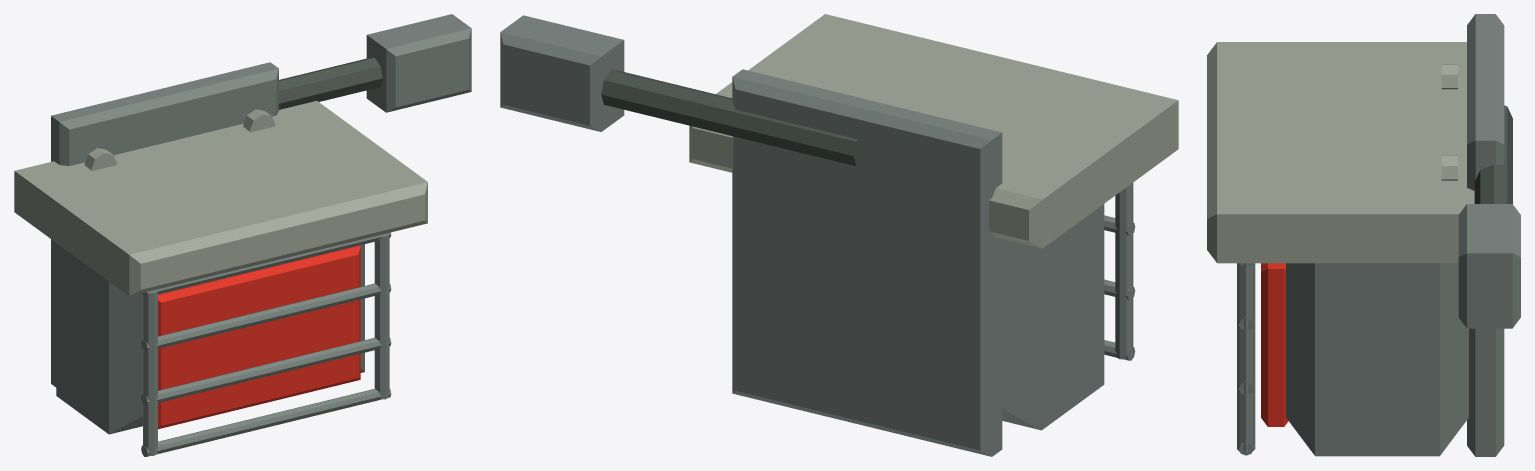
Rendered from EmergencyRoomLamp.fbx.
The picture shows the model from 3 angles, left to right: view 1: azimuth 30°, elevation 25°; view 2: azimuth 150°, elevation 25°; view 3: azimuth 270°, elevation 25°; orthographic projection. The views are drawn at different scales.
Parts seen in each view (by area): view 1: RainHood__WornSteel, RedLens__SignalRed, LensGuard__Steel, Housing__Steel, WallMount__Steel, CableJunction__Steel, SupplyCable__Rubber, MountBolts__WornSteel; view 2: WallMount__Steel, RainHood__WornSteel, Housing__Steel, CableJunction__Steel, SupplyCable__Rubber, LensGuard__Steel; view 3: RainHood__WornSteel, Housing__Steel, WallMount__Steel, CableJunction__Steel, RedLens__SignalRed, LensGuard__Steel, SupplyCable__Rubber, MountBolts__WornSteel.
Boxes of the visible parts, left/top/right/bottom form: RainHood__WornSteel: left=14, top=101, right=427, bottom=296; RedLens__SignalRed: left=158, top=245, right=360, bottom=429; LensGuard__Steel: left=141, top=232, right=391, bottom=456; Housing__Steel: left=56, top=243, right=364, bottom=434; WallMount__Steel: left=51, top=62, right=278, bottom=387; CableJunction__Steel: left=366, top=14, right=471, bottom=112; SupplyCable__Rubber: left=278, top=58, right=382, bottom=109; MountBolts__WornSteel: left=84, top=109, right=275, bottom=170; WallMount__Steel: left=732, top=69, right=1002, bottom=456; RainHood__WornSteel: left=689, top=14, right=1178, bottom=248; Housing__Steel: left=1002, top=204, right=1104, bottom=430; CableJunction__Steel: left=500, top=15, right=624, bottom=131; SupplyCable__Rubber: left=601, top=70, right=857, bottom=166; LensGuard__Steel: left=1104, top=183, right=1135, bottom=360; RainHood__WornSteel: left=1207, top=42, right=1474, bottom=263; Housing__Steel: left=1286, top=263, right=1468, bottom=456; WallMount__Steel: left=1467, top=14, right=1504, bottom=456; CableJunction__Steel: left=1458, top=204, right=1520, bottom=328; RedLens__SignalRed: left=1261, top=263, right=1288, bottom=426; LensGuard__Steel: left=1237, top=263, right=1255, bottom=455; SupplyCable__Rubber: left=1474, top=105, right=1512, bottom=203; MountBolts__WornSteel: left=1441, top=64, right=1457, bottom=180.
Bounding box in the file's own units: 0.735 × 0.42 × 0.3775.
